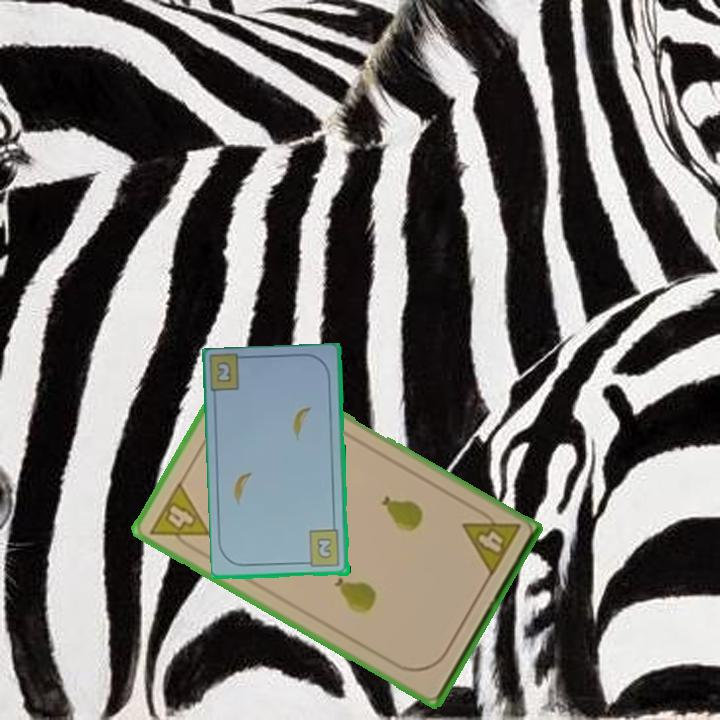2b: (301, 527, 343, 570), (213, 358, 234, 386)
4p: (146, 478, 212, 557), (458, 503, 523, 579)
